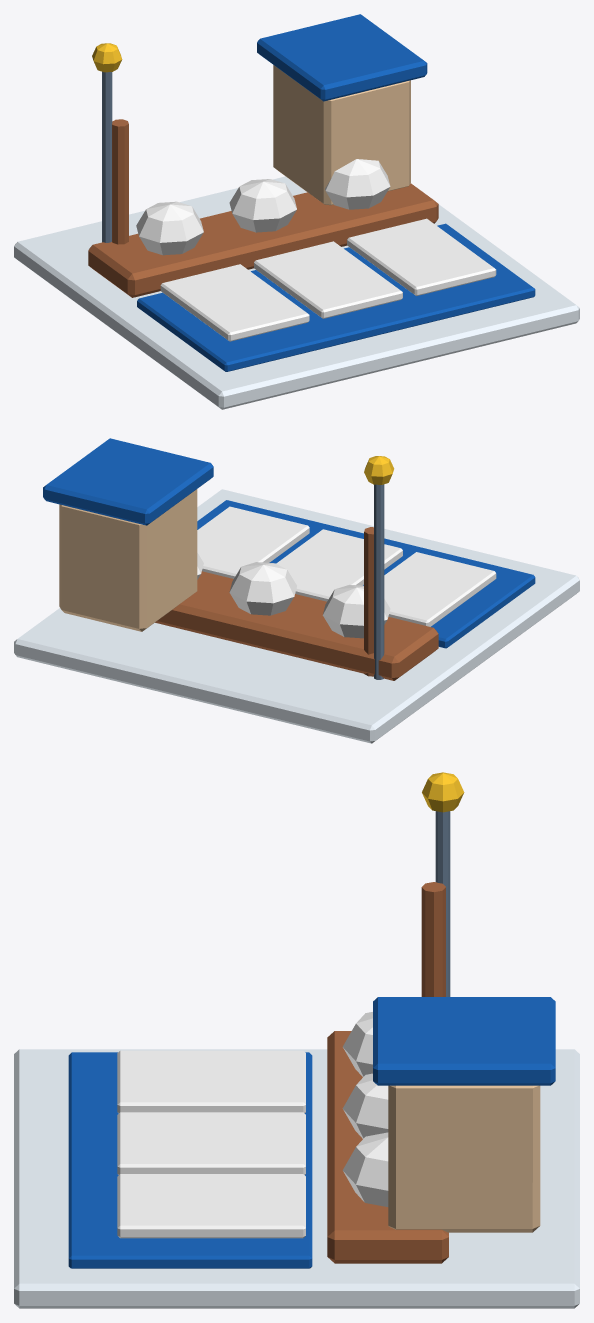
The model's file is Building_Saltworks_2x2_v001.fbx.
3 views of the same model, one above another, from view 1: azimuth 30°, elevation 25°; view 2: azimuth 150°, elevation 25°; view 3: azimuth 270°, elevation 25° (orthographic). The views are drawn at different scales.
Parts seen in each view (by area): view 1: Foundation, WaterBasin, Pier, Store, StoreRoof, SaltPan_Anim.002, SaltPan_Anim, SaltPan_Anim.001, SaltPile.001, SaltPile.002, SaltPile, PierPost.001 (+2 smaller); view 2: Foundation, Store, Pier, StoreRoof, WaterBasin, SaltPan_Anim.002, SaltPan_Anim, SaltPan_Anim.001, SaltPile.001, SignalMast, SaltPile.002, PierPost.001 (+1 smaller); view 3: Foundation, Store, WaterBasin, StoreRoof, SaltPan_Anim, SaltPan_Anim.002, SaltPan_Anim.001, Pier, PierPost.001, SaltPile, SaltPile.001, SignalMast (+2 smaller).
Part boxes in pixels (left/top/right/bottom): Foundation: left=14, top=176, right=579, bottom=409; WaterBasin: left=137, top=223, right=535, bottom=371; Pier: left=88, top=183, right=438, bottom=297; Store: left=273, top=65, right=410, bottom=205; StoreRoof: left=257, top=14, right=427, bottom=101; SaltPan_Anim.002: left=160, top=264, right=309, bottom=341; SaltPan_Anim: left=347, top=218, right=496, bottom=295; SaltPan_Anim.001: left=254, top=241, right=402, bottom=318; SaltPile.001: left=229, top=179, right=296, bottom=232; SaltPile.002: left=136, top=201, right=203, bottom=255; SaltPile: left=325, top=159, right=390, bottom=209; PierPost.001: left=112, top=119, right=128, bottom=244; Foundation: left=14, top=489, right=579, bottom=743; Store: left=59, top=489, right=197, bottom=631; Pier: left=155, top=571, right=438, bottom=680; StoreRoof: left=43, top=438, right=213, bottom=525; WaterBasin: left=197, top=500, right=535, bottom=648; SaltPan_Anim.002: left=384, top=552, right=496, bottom=626; SaltPan_Anim: left=197, top=506, right=309, bottom=578; SaltPan_Anim.001: left=276, top=529, right=402, bottom=601; SaltPile.001: left=229, top=562, right=296, bottom=615; SignalMast: left=374, top=484, right=384, bottom=679; SaltPile.002: left=322, top=584, right=390, bottom=638; PierPost.001: left=364, top=527, right=373, bottom=676; Foundation: left=14, top=1049, right=579, bottom=1308; Store: left=388, top=1085, right=540, bottom=1232; WaterBasin: left=68, top=1052, right=312, bottom=1268; StoreRoof: left=373, top=997, right=555, bottom=1085; SaltPan_Anim: left=117, top=1174, right=305, bottom=1238; SaltPan_Anim.002: left=117, top=1050, right=305, bottom=1113; SaltPan_Anim.001: left=117, top=1112, right=305, bottom=1174; Pier: left=327, top=1031, right=448, bottom=1263; PierPost.001: left=421, top=882, right=445, bottom=996; SaltPile: left=342, top=1132, right=388, bottom=1206; SaltPile.001: left=342, top=1073, right=388, bottom=1138; SignalMast: left=435, top=811, right=450, bottom=996.
Bounding box in the file's own units: 186 × 119 × 186.
